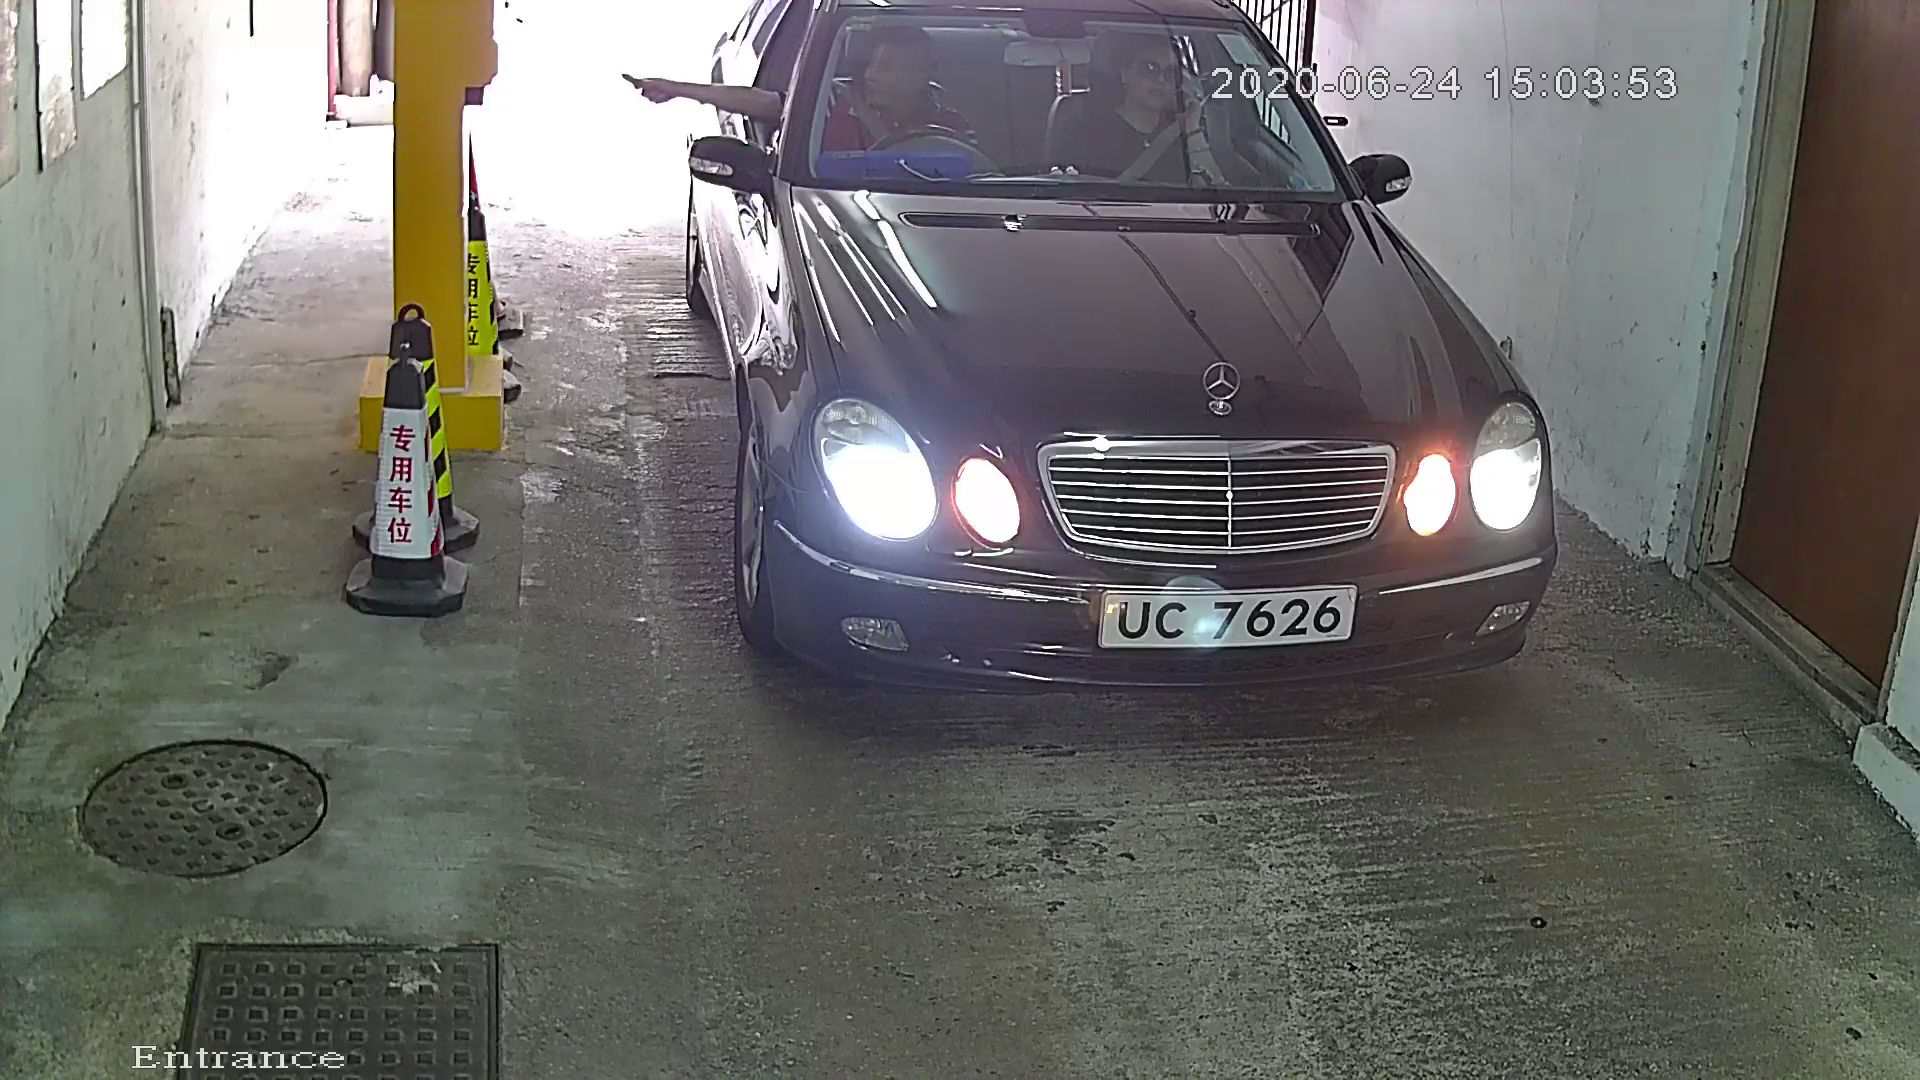Car: (613, 1, 1626, 742)
License Plate: (1083, 574, 1371, 668)
